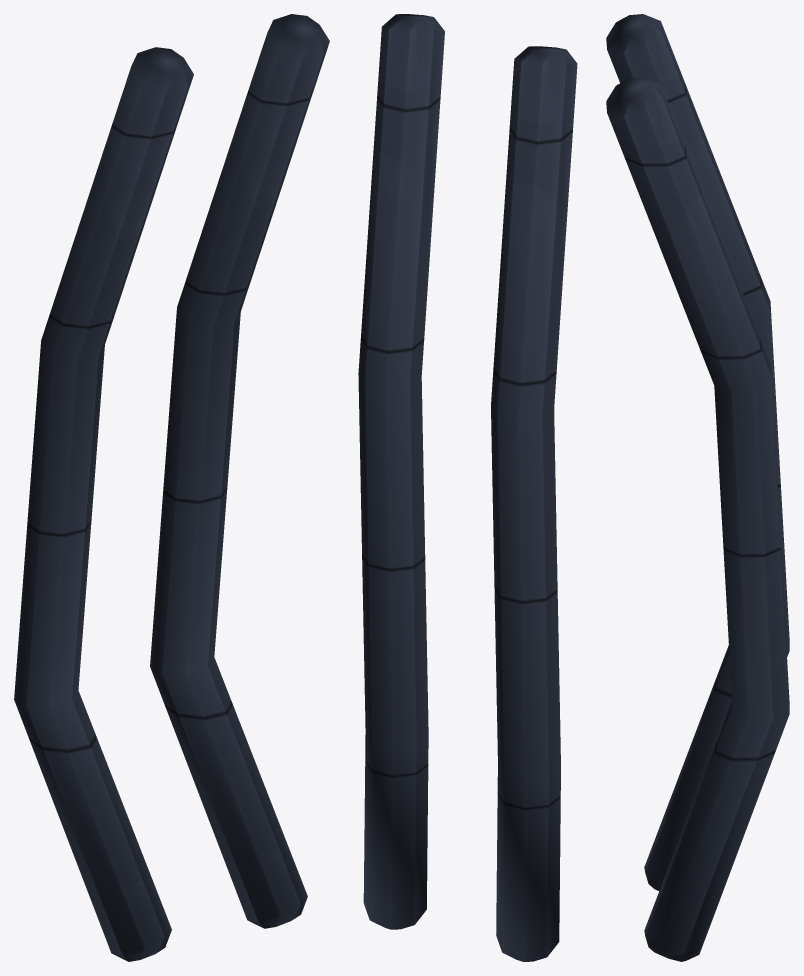
The model's file is Remache_BrazoDer_Negro.fbx.
3 renders of one model, left to right at view 1: azimuth 30°, elevation 25°; view 2: azimuth 150°, elevation 25°; view 3: azimuth 270°, elevation 25°, orthographic. The views are drawn at different scales.
Parts seen in each view (by area): view 1: Remache_BrazoDer_Negro; view 2: Remache_BrazoDer_Negro; view 3: Remache_BrazoDer_Negro.
Boxes of the visible parts, box(x1,y1,x2,y2) form: Remache_BrazoDer_Negro: box(14, 14, 329, 961); Remache_BrazoDer_Negro: box(358, 14, 577, 961); Remache_BrazoDer_Negro: box(606, 14, 789, 961).
Size of the model in its own units: 0.5004 by 1.85 by 0.3505.
